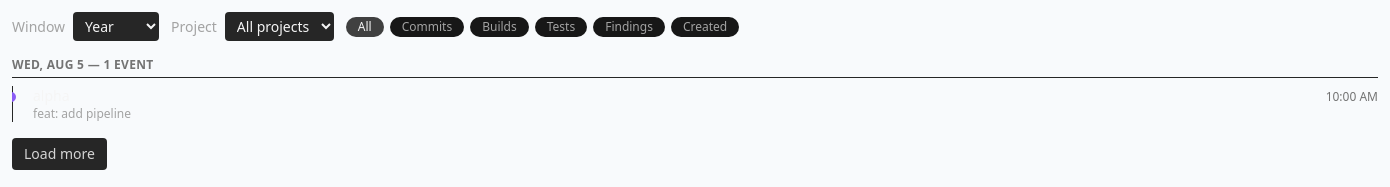
Test case: ProjectTimeline › loads more pages when available
The image size is (1390, 187).
Expected: the text "feat: add pipeline" is shown, left=33, top=105, right=131, bottom=122
Step 1. Click the button "Load more" → [59, 154], box left=12, top=138, right=107, bottom=170
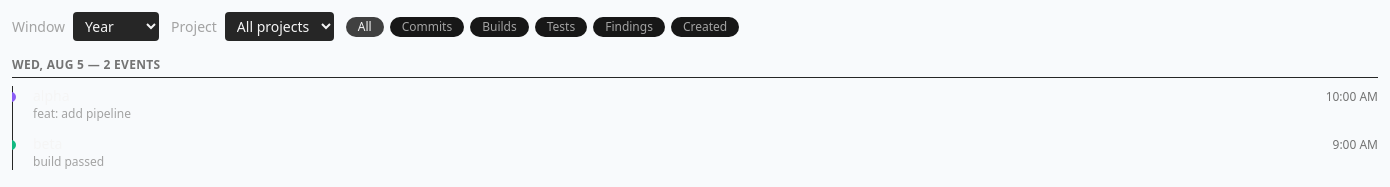
Expected: the text "build passed" is shown, left=33, top=153, right=104, bottom=170
